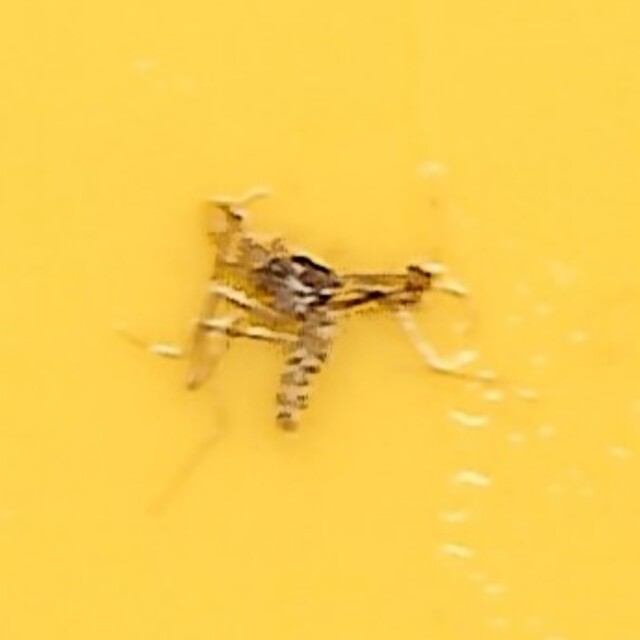Nematocera: (186, 202, 454, 438)
